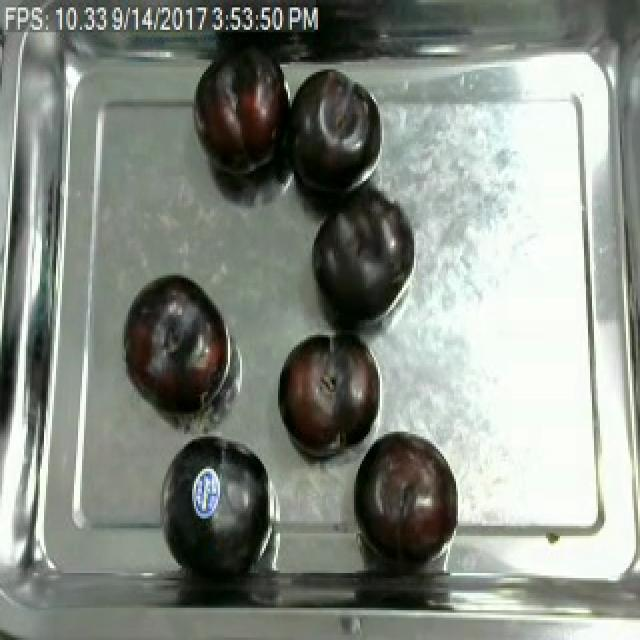Fruit: (156, 427, 280, 583), (116, 268, 234, 422), (184, 47, 296, 184), (270, 325, 382, 461), (350, 427, 462, 563), (278, 62, 386, 203), (304, 191, 412, 330)
